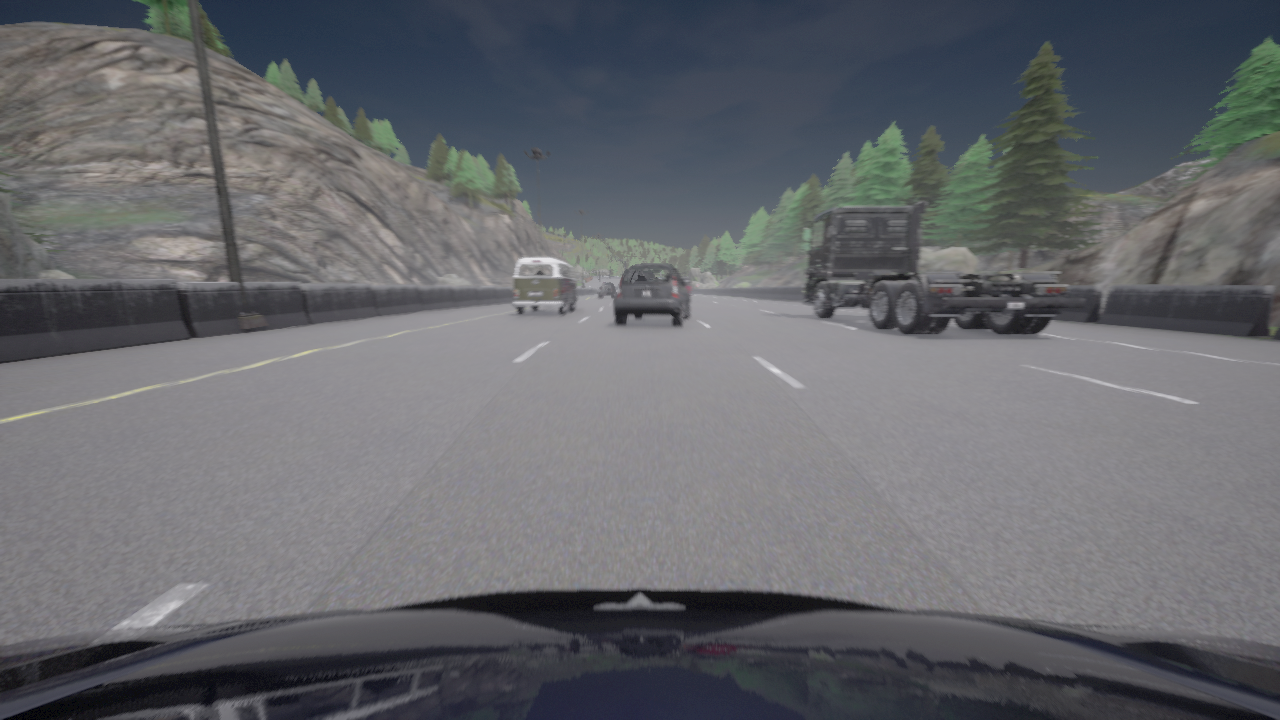cyclist: (0, 588, 1279, 719), (802, 201, 1084, 334), (614, 264, 690, 326), (512, 257, 579, 314), (599, 283, 615, 297), (682, 277, 690, 295)
